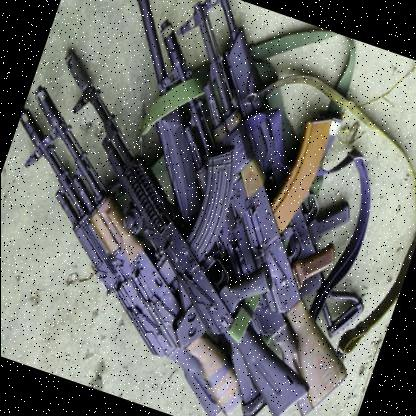rifle: (0, 51, 384, 416), (87, 0, 416, 404), (0, 107, 292, 416)
